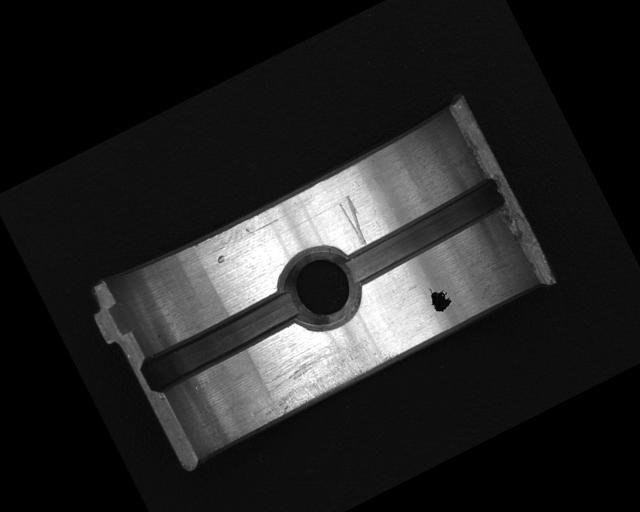blot: (423, 280, 456, 316)
bruise: (215, 253, 227, 265)
gap: (334, 170, 515, 290), (135, 282, 306, 396)
hole: (271, 238, 371, 340)
nick: (335, 193, 374, 249)
scratch: (234, 315, 401, 432)
